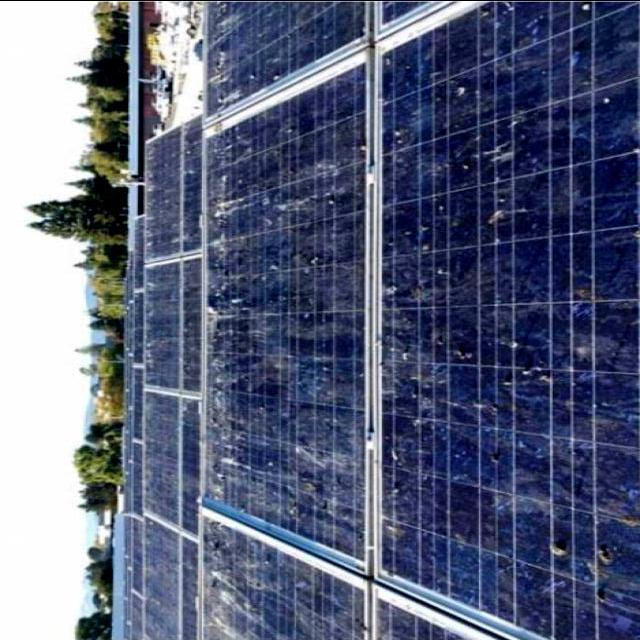soiled: (377, 1, 640, 640), (204, 4, 372, 640), (140, 111, 209, 640)
